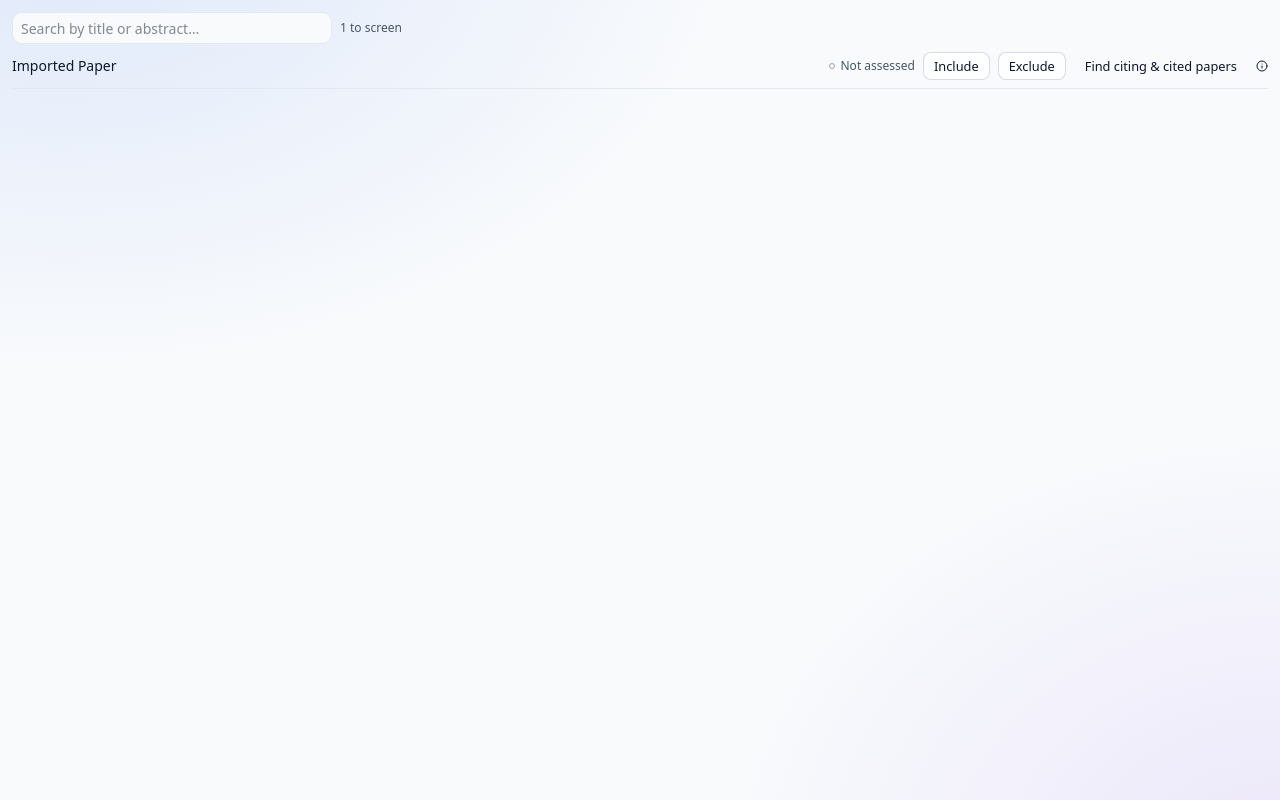
Test: the row wraps its actions and offers the renamed stage-2 reasons
Step 1. Click the button "Exclude" → {"x": 1032, "y": 66}, box [998, 52, 1066, 80]
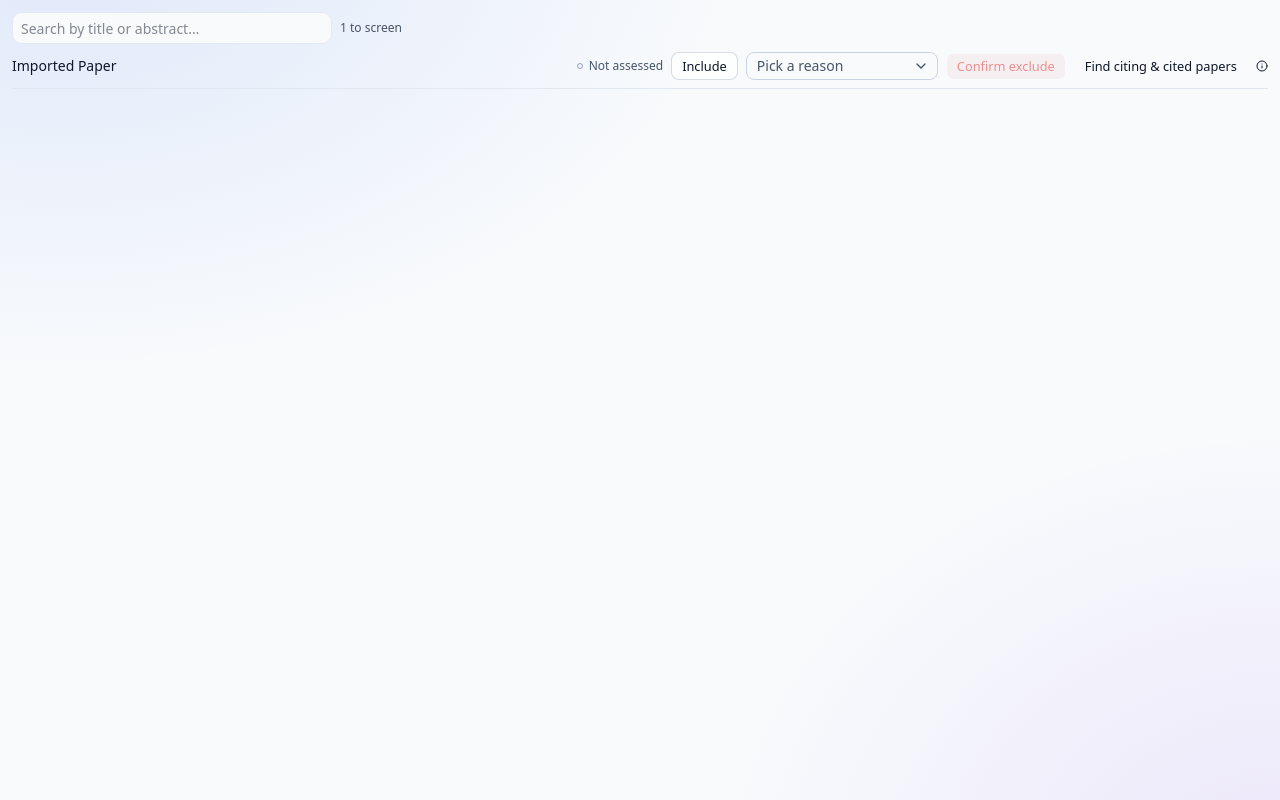
Step 2. Press Enter in the dropdown named "Exclusion reason", box [746, 52, 938, 80]
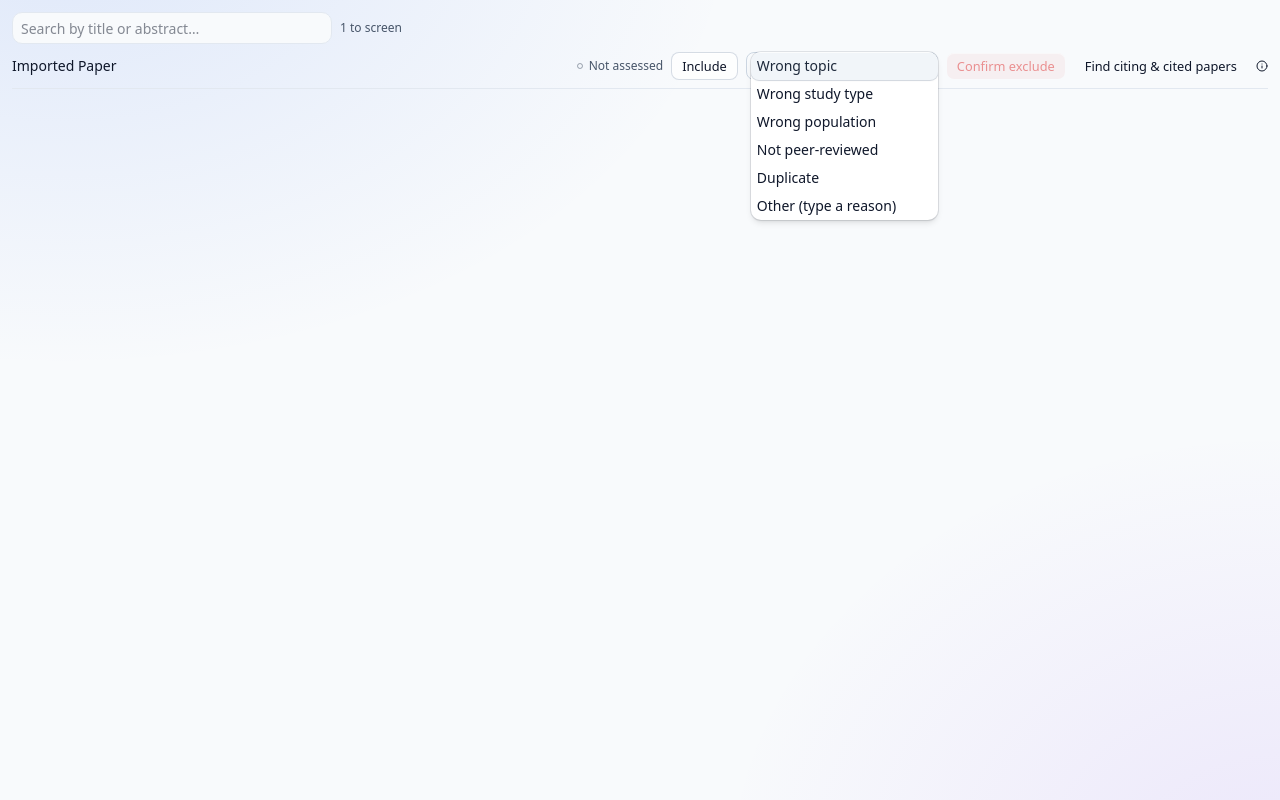
Expected: the options read "Wrong topic", "Wrong study type", "Wrong population", "Not peer-reviewed", "Duplicate", "Other (type a reason)", in this order, [757, 56, 837, 75]; [757, 84, 873, 103]; [757, 112, 876, 131]; [757, 140, 878, 159]; [757, 168, 819, 187]; [757, 196, 896, 215]
